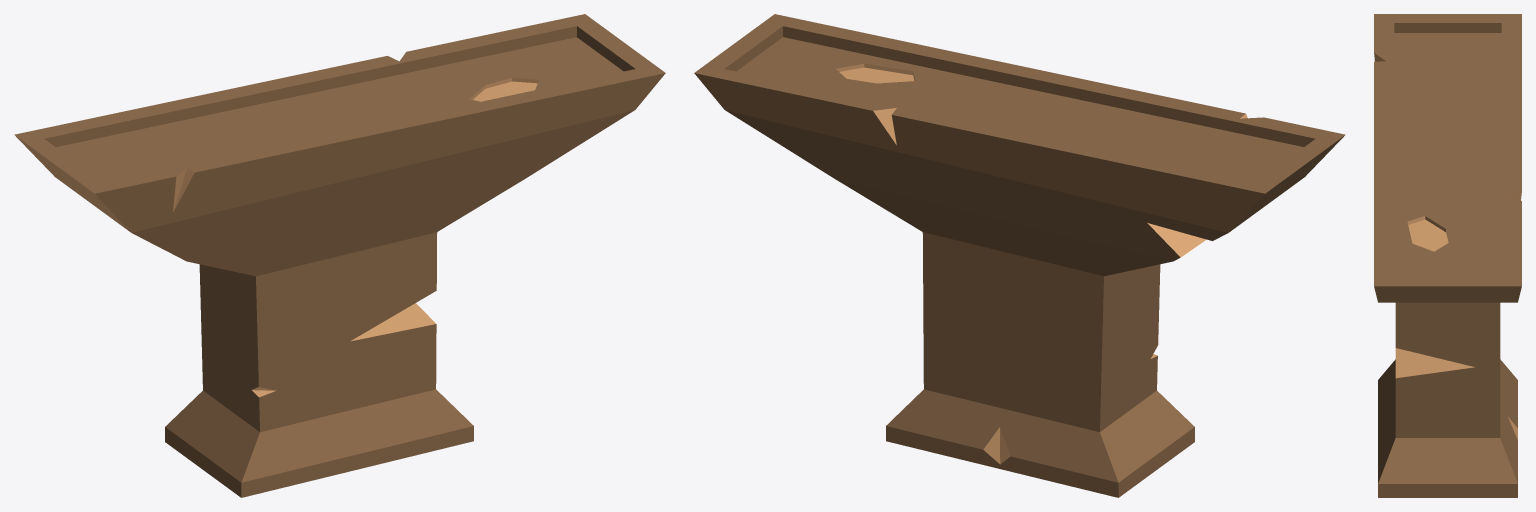
File: Anvil_5_Brown.fbx
3 views of the same model, side by side, from view 1: azimuth 30°, elevation 25°; view 2: azimuth 150°, elevation 25°; view 3: azimuth 270°, elevation 25° (orthographic). The views are drawn at different scales.
Visible parts, largest first — view 1: Anvil_5_Brown_Part_1, Anvil_5_Brown_Part_2; view 2: Anvil_5_Brown_Part_1, Anvil_5_Brown_Part_2; view 3: Anvil_5_Brown_Part_1, Anvil_5_Brown_Part_2.
Boxes of the visible parts, box(x1,y1,x2,y2) form: Anvil_5_Brown_Part_1: box(14, 14, 665, 497); Anvil_5_Brown_Part_2: box(173, 78, 538, 397); Anvil_5_Brown_Part_1: box(694, 14, 1345, 497); Anvil_5_Brown_Part_2: box(836, 63, 1247, 464); Anvil_5_Brown_Part_1: box(1374, 14, 1521, 497); Anvil_5_Brown_Part_2: box(1374, 53, 1521, 439).
Bounding box in the file's own units: 99.82 × 57.14 × 24.43.
